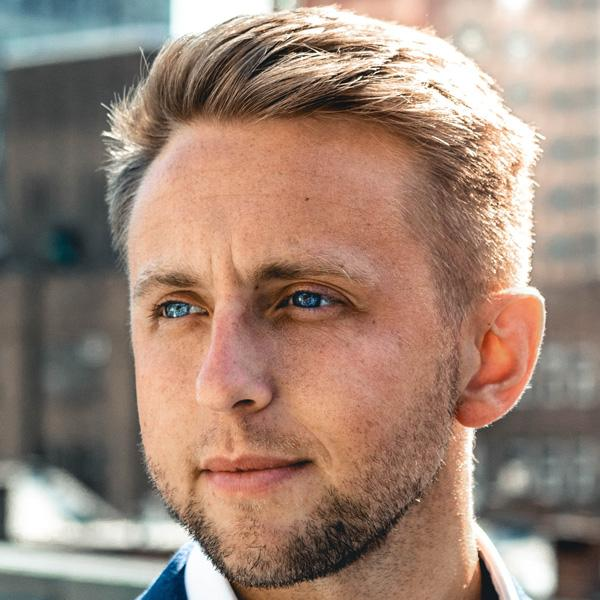Eyes: (265, 274, 357, 326), (143, 284, 213, 332)
